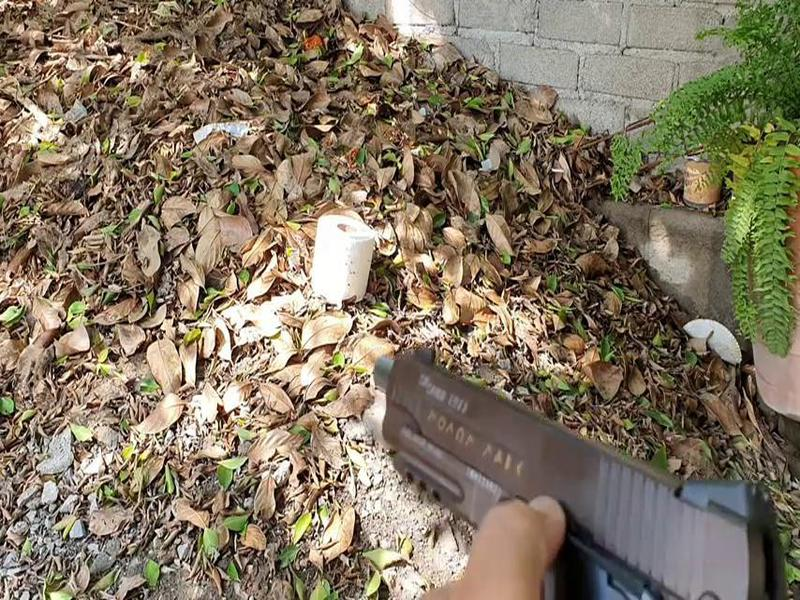Pistola: (337, 308, 769, 600)
